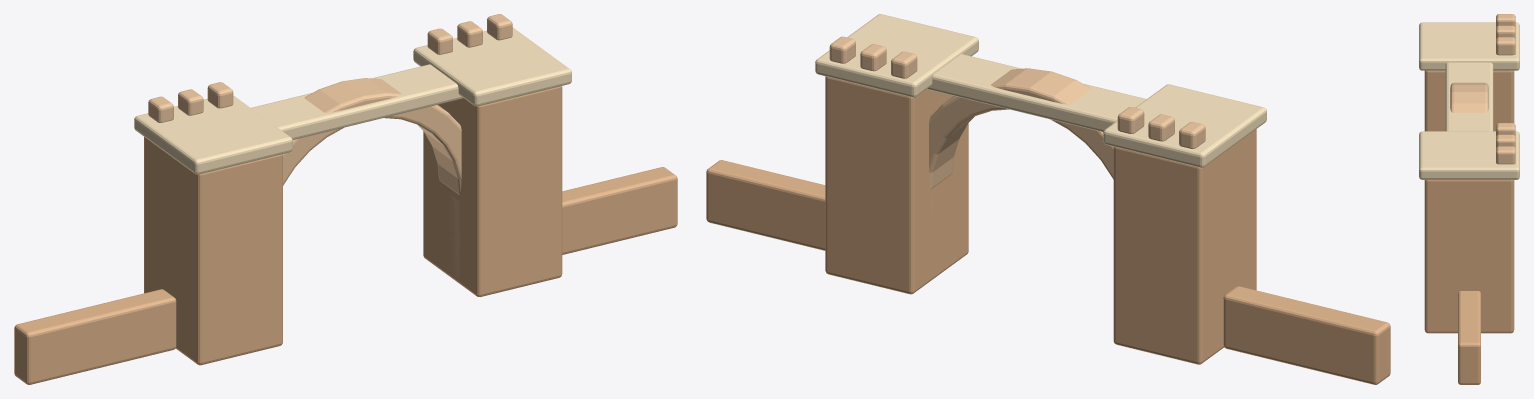
File: SM_EasternCaravanGateway.fbx
3 views of the same model, side by side, from view 1: azimuth 30°, elevation 25°; view 2: azimuth 150°, elevation 25°; view 3: azimuth 270°, elevation 25° (orthographic). The views are drawn at different scales.
Parts seen in each view (by area): view 1: SM_EasternCaravanGateway_Export; view 2: SM_EasternCaravanGateway_Export; view 3: SM_EasternCaravanGateway_Export.
Part boxes in pixels (x1,y1,x2,y2): SM_EasternCaravanGateway_Export: (14, 14, 677, 384); SM_EasternCaravanGateway_Export: (706, 14, 1390, 384); SM_EasternCaravanGateway_Export: (1419, 14, 1519, 384).
Bounding box in the file's own units: 1820 × 305 × 603.
